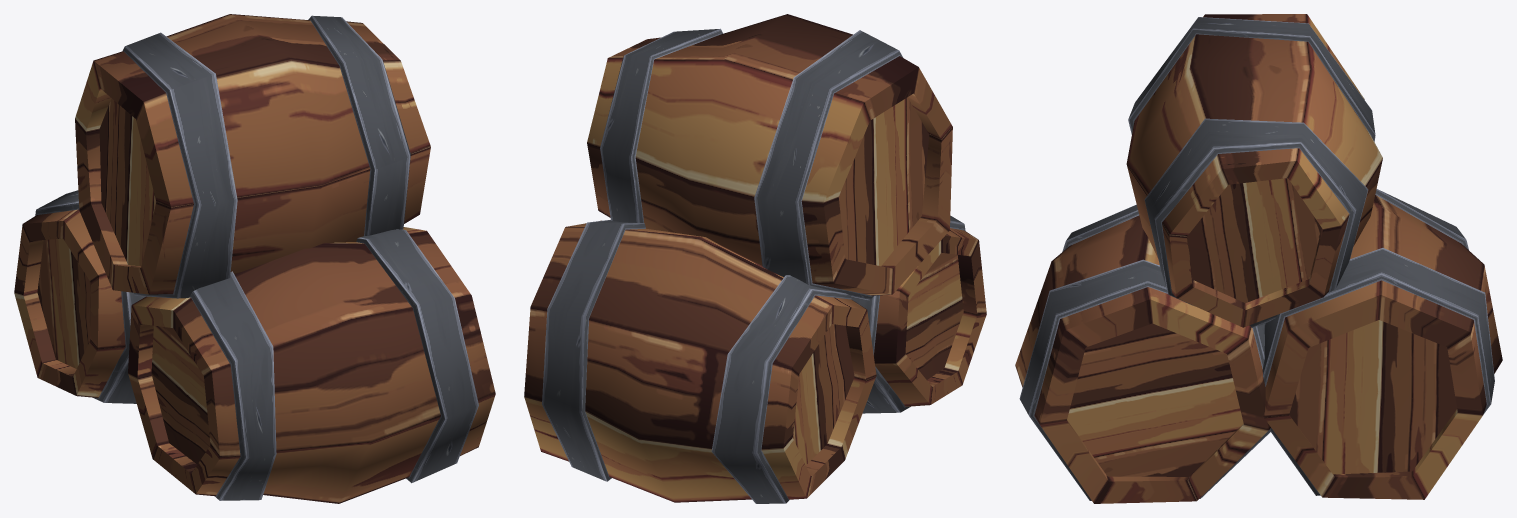
File: tonneau-5.glb
The picture shows the model from 3 angles, left to right: view 1: azimuth 30°, elevation 25°; view 2: azimuth 150°, elevation 25°; view 3: azimuth 270°, elevation 25°; orthographic projection. The views are drawn at different scales.
Visible parts, largest first — view 1: SM_PROP_barrel_06; view 2: SM_PROP_barrel_06; view 3: SM_PROP_barrel_06.
Boxes of the visible parts, x1=… form: SM_PROP_barrel_06: x1=14, y1=14, x2=495, y2=503; SM_PROP_barrel_06: x1=524, y1=14, x2=986, y2=503; SM_PROP_barrel_06: x1=1015, y1=14, x2=1502, y2=503.
Bounding box in the file's own units: 0.9294 × 1.24 × 1.4.
Materials: 2 (2 with a texture image).
